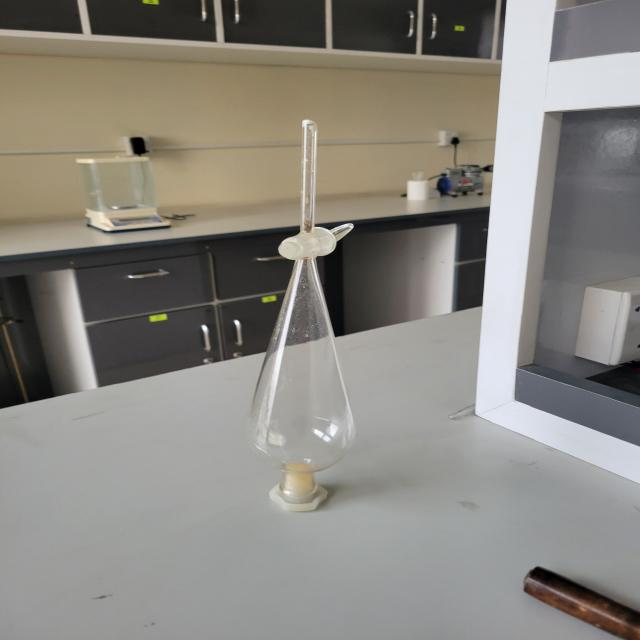Separating_Funnel: (214, 92, 401, 532)
